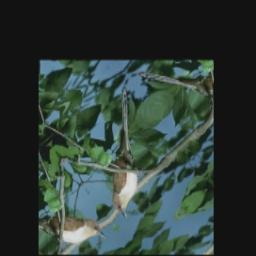Cuckoo: (61, 84, 190, 224)
